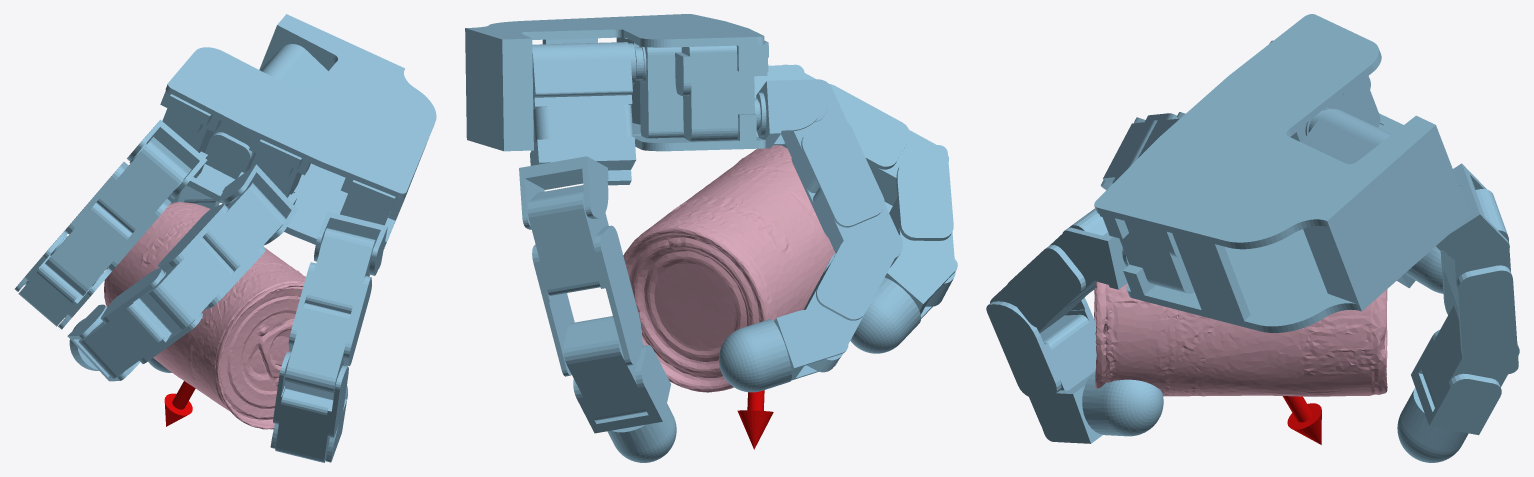
The picture shows the model from 3 angles, left to right: view 1: azimuth 30°, elevation 25°; view 2: azimuth 150°, elevation 25°; view 3: azimuth 270°, elevation 25°; orthographic projection. The views are drawn at different scales.
Visible parts, largest first — view 1: world, tomato_soup_can.stl; view 2: world, tomato_soup_can.stl; view 3: world, tomato_soup_can.stl.
Part boxes in pixels (x1=…): world: x1=14, y1=14, x2=436, y2=462; tomato_soup_can.stl: x1=104, y1=202, x2=347, y2=429; world: x1=465, y1=14, x2=957, y2=462; tomato_soup_can.stl: x1=623, y1=145, x2=834, y2=392; world: x1=986, y1=14, x2=1519, y2=462; tomato_soup_can.stl: x1=1094, y1=206, x2=1387, y2=396.
Bounding box in the file's own units: 0.1844 × 0.1661 × 0.1851.
